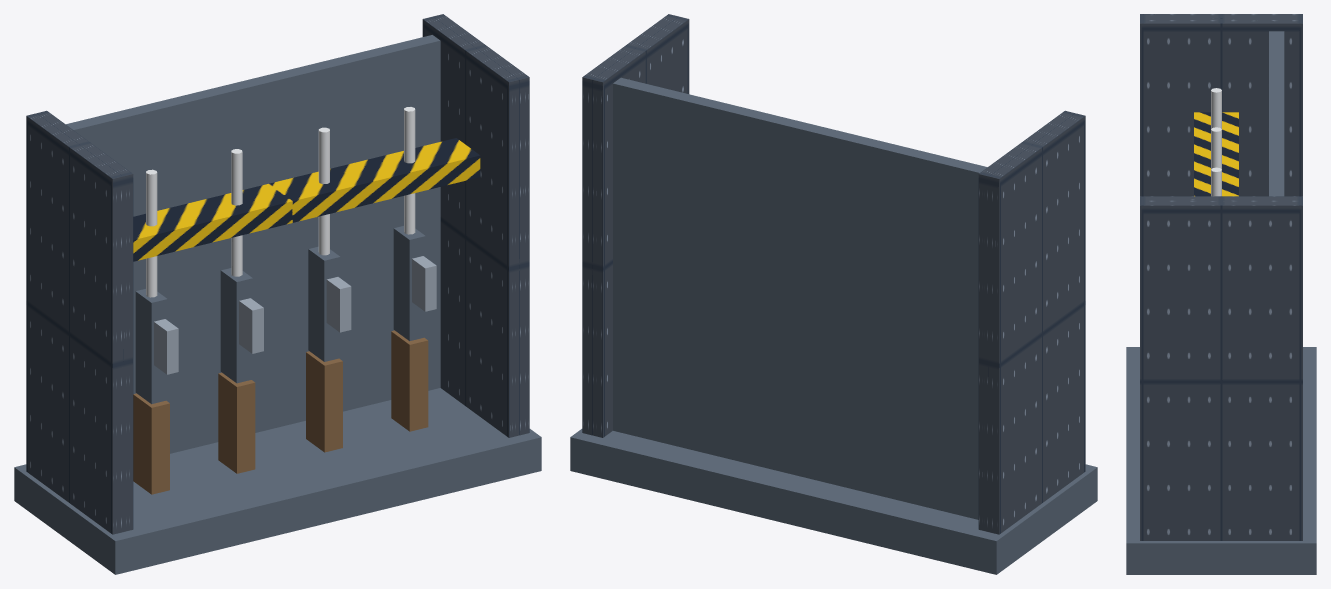
File: weapon_rack_stand.glb
The picture shows the model from 3 angles, left to right: view 1: azimuth 30°, elevation 25°; view 2: azimuth 150°, elevation 25°; view 3: azimuth 270°, elevation 25°; orthographic projection. The views are drawn at different scales.
Visible parts, largest first — view 1: weapon_rack_stand; view 2: weapon_rack_stand; view 3: weapon_rack_stand.
Boxes of the visible parts, left/top/right/bottom form: weapon_rack_stand: left=14, top=14, right=541, bottom=574; weapon_rack_stand: left=570, top=14, right=1097, bottom=574; weapon_rack_stand: left=1126, top=14, right=1316, bottom=574.
Bounding box in the file's own units: 1.85 × 1.61 × 0.76.
6 materials, 2 textured.
